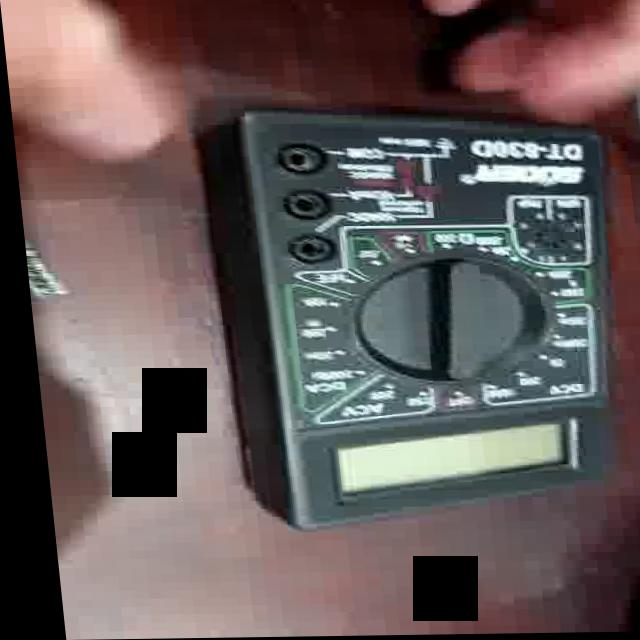multimeter: (203, 106, 612, 507)
